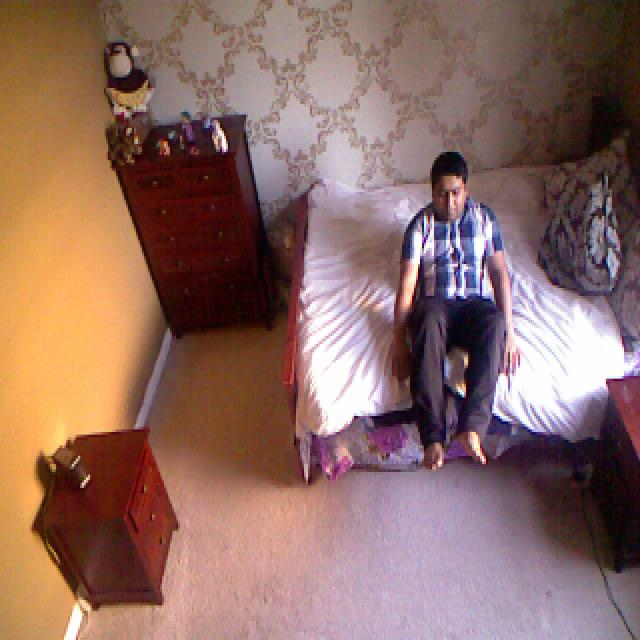bending: (390, 152, 522, 471)
